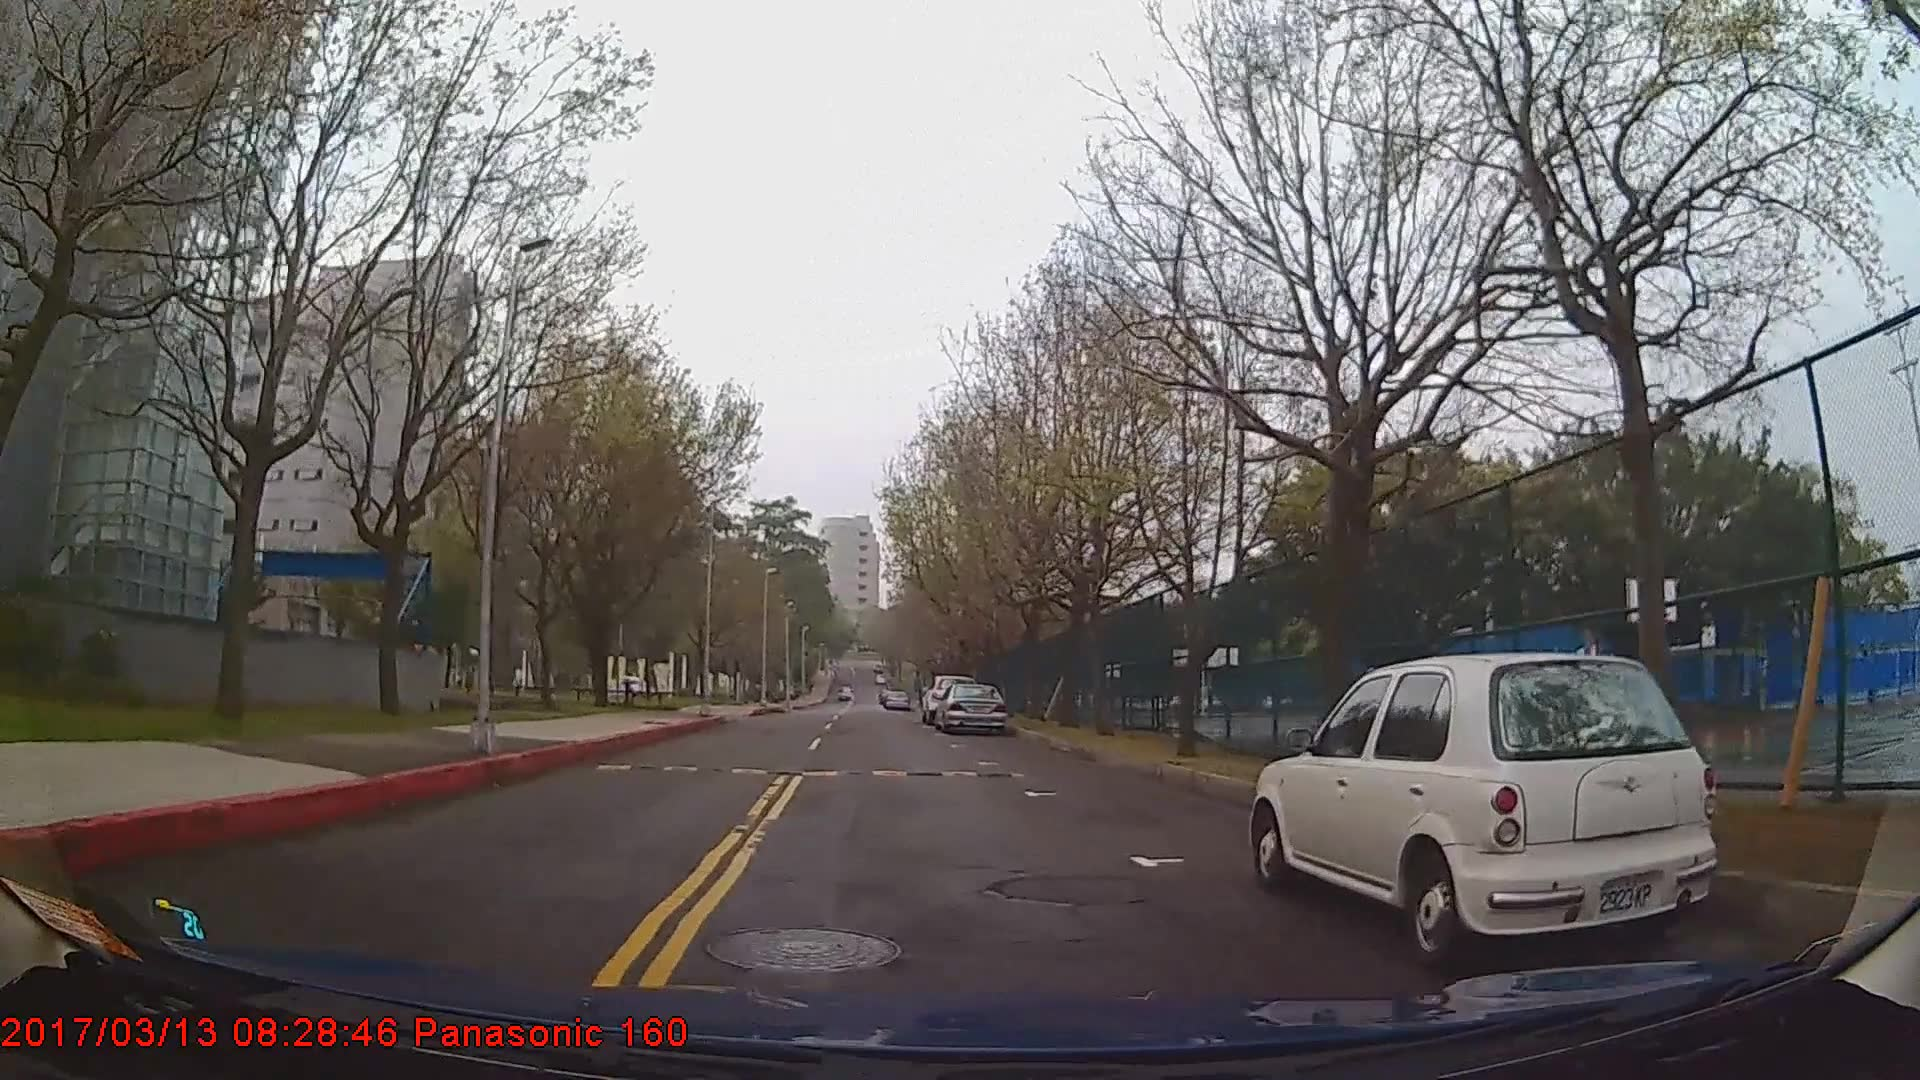vehicle: (1253, 649, 1726, 959), (935, 679, 1010, 731)
